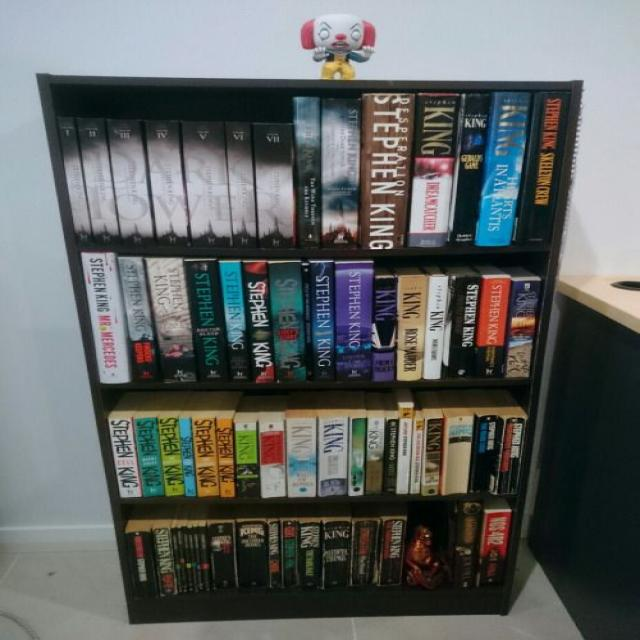book: (360, 93, 415, 249), (516, 93, 572, 245), (477, 92, 532, 245), (407, 92, 460, 247), (448, 93, 490, 247), (81, 252, 130, 383), (182, 122, 233, 247), (320, 98, 362, 249), (146, 258, 197, 382), (106, 120, 156, 245), (144, 120, 191, 247), (76, 119, 120, 245), (118, 257, 159, 380), (254, 124, 294, 249), (185, 260, 227, 379), (335, 262, 373, 381), (269, 262, 305, 381), (294, 96, 321, 250), (58, 119, 91, 244), (226, 123, 258, 248), (503, 280, 542, 377), (219, 262, 250, 379), (448, 276, 483, 378), (244, 261, 274, 380), (475, 278, 510, 377), (396, 276, 427, 381), (311, 263, 335, 380), (452, 501, 483, 587), (423, 277, 448, 379), (108, 419, 140, 498), (471, 416, 504, 492), (373, 278, 397, 382), (317, 417, 348, 496), (479, 512, 512, 586), (442, 417, 473, 495), (496, 417, 527, 495), (134, 417, 164, 497), (287, 418, 316, 497), (157, 416, 185, 496), (192, 417, 219, 497), (258, 420, 285, 498), (127, 532, 158, 599), (236, 522, 266, 586), (321, 521, 350, 587), (378, 520, 406, 586), (352, 520, 380, 586), (151, 528, 178, 595), (234, 422, 258, 497), (208, 522, 235, 588), (217, 419, 236, 497), (396, 407, 413, 494), (365, 417, 384, 494), (422, 419, 441, 496), (302, 264, 314, 380), (348, 418, 366, 495), (300, 523, 320, 586), (281, 520, 299, 588), (383, 418, 399, 493), (410, 419, 425, 494), (180, 418, 194, 496), (266, 521, 280, 588), (170, 527, 183, 593), (199, 526, 210, 594), (182, 527, 193, 593), (187, 528, 198, 593), (193, 527, 203, 594), (177, 528, 187, 593)
